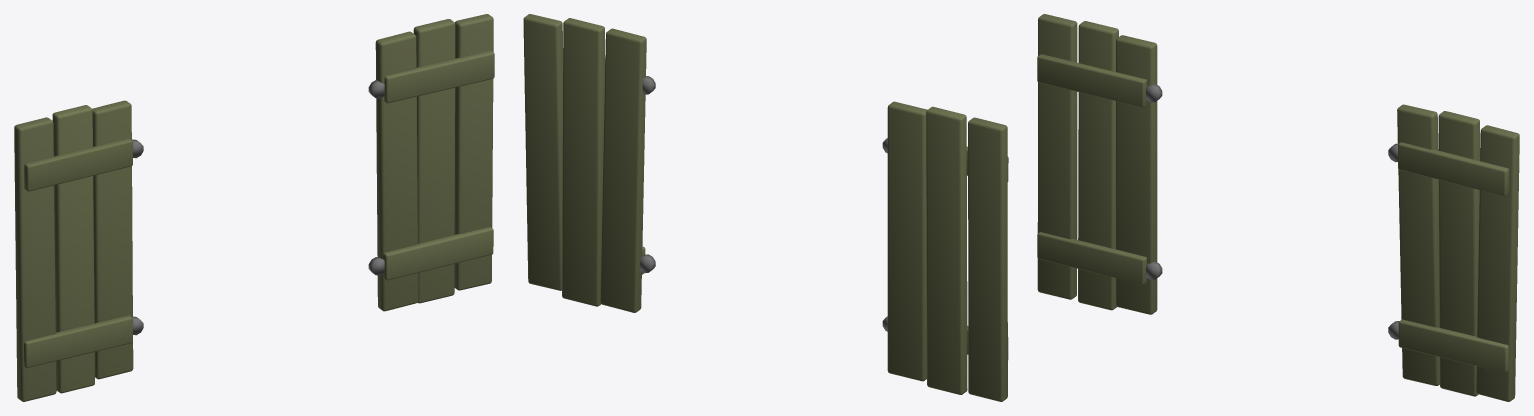
The model's file is tg_shutters.glb.
The picture shows the model from 3 angles, left to right: view 1: azimuth 30°, elevation 25°; view 2: azimuth 150°, elevation 25°; view 3: azimuth 330°, elevation 25°; orthographic projection.
Visible parts, largest first — view 1: shutters_tg; view 2: shutters_tg; view 3: shutters_tg.
Boxes of the visible parts, <box> form: shutters_tg: <box>14,14,494,401</box>; shutters_tg: <box>523,14,1008,401</box>; shutters_tg: <box>1037,14,1519,401</box>.
Size of the model in its own units: 1.91 by 1.06 by 0.0841.
